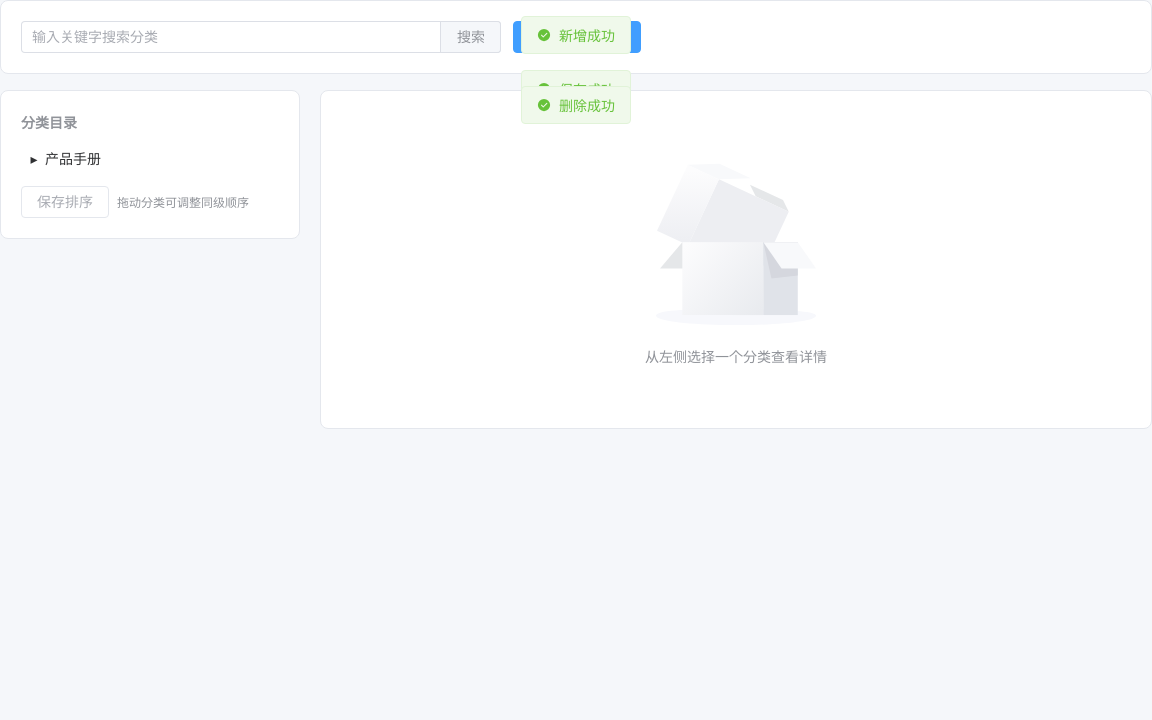
CategoryManageView 分类管理 › 三级分类详情展示层级与完整路径
# 逐层展开后选中三级分类
Click the text with class "cat-toggle" at (34, 158), box [30,148,38,168]
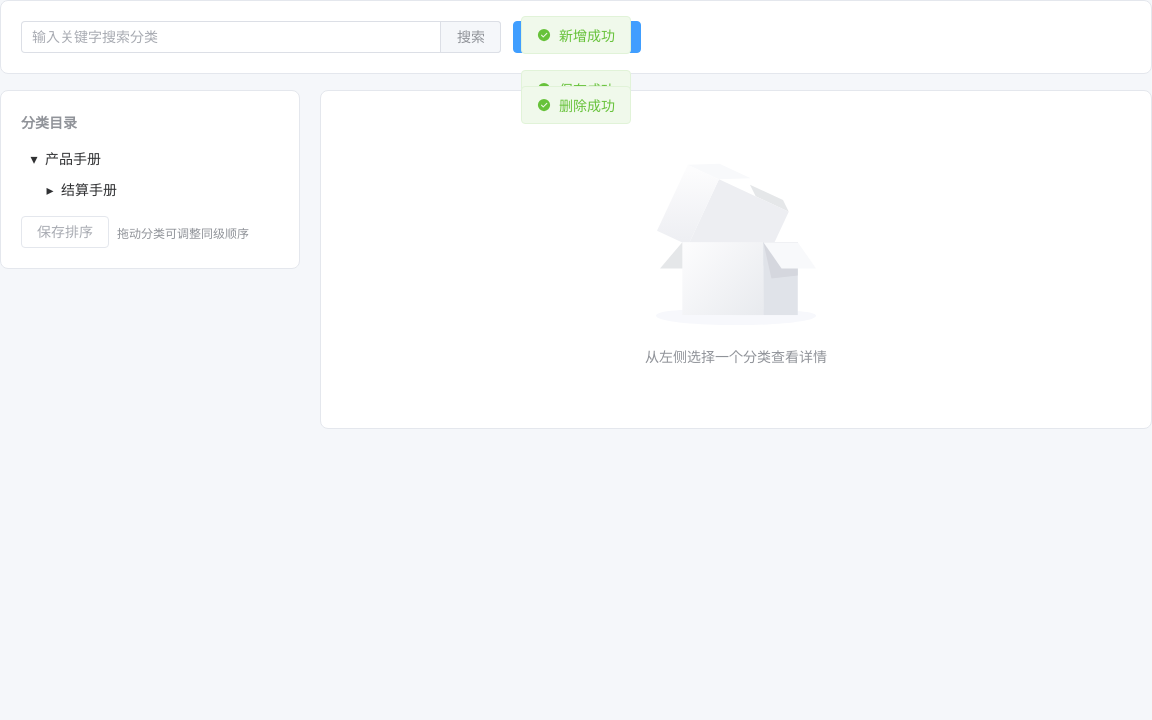
Click the text with class "cat-toggle" showing "▸" at (50, 189), box [46,179,54,199]
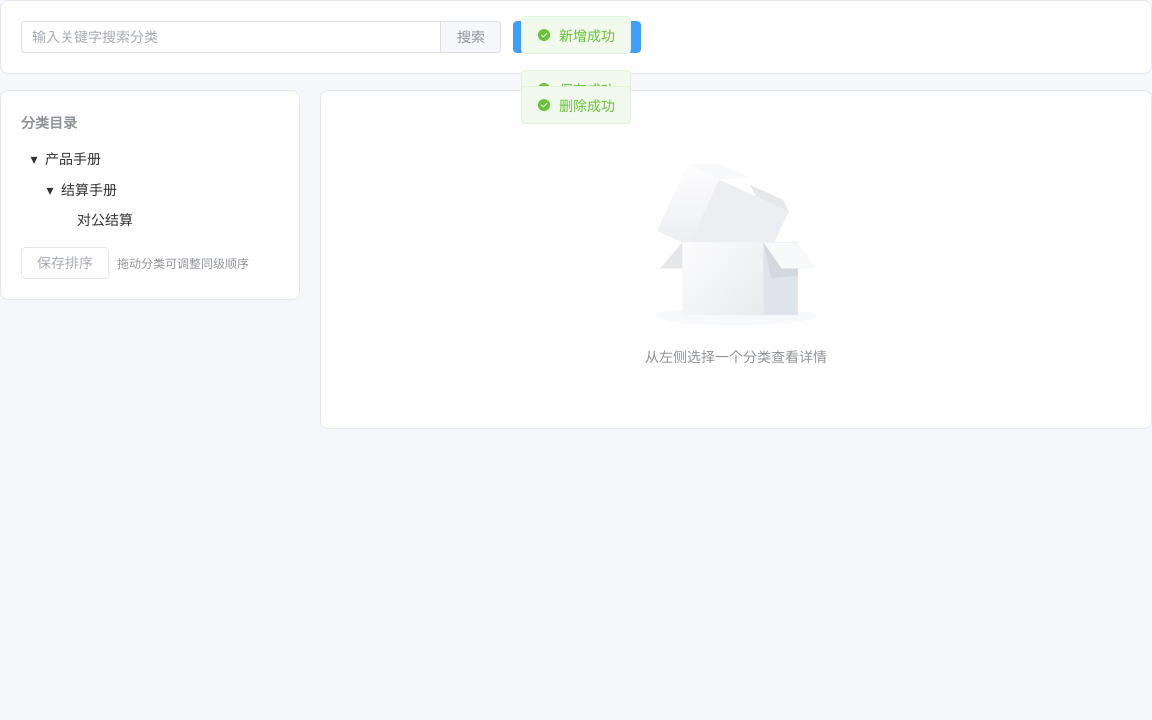
Click the text with class "cat-name" showing "对公结算" at (105, 219), box [77,209,133,229]
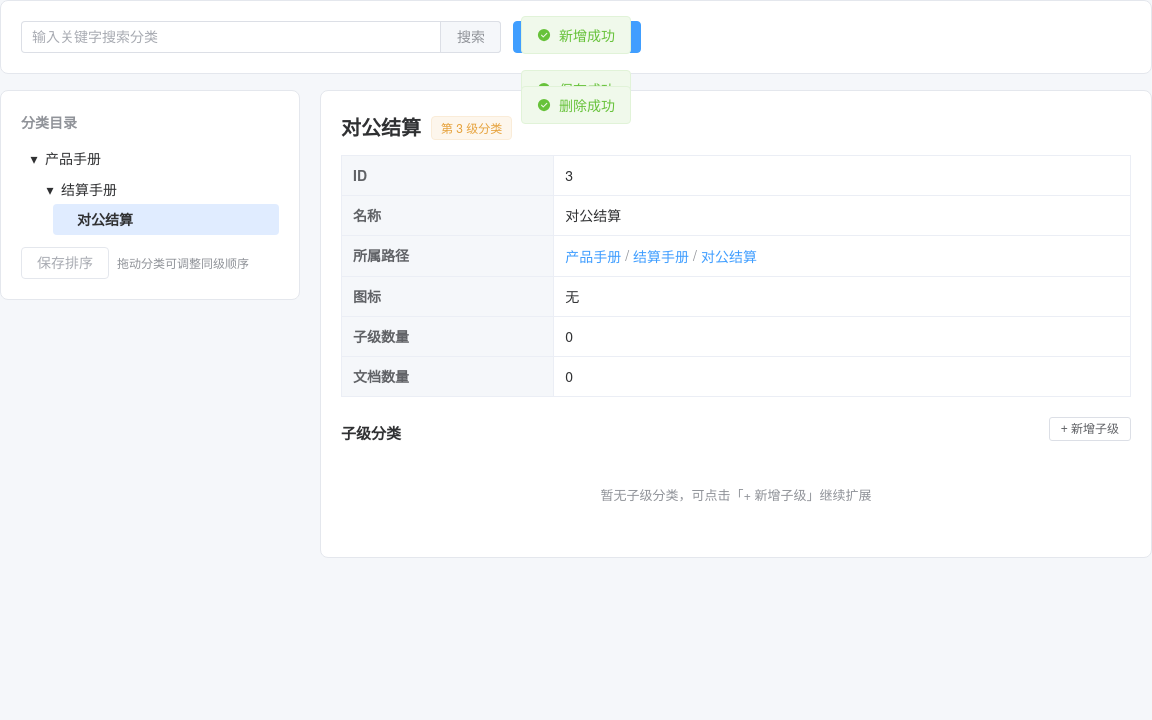
Result: the text "第 3 级分类" is shown at [441,122,502,134]
